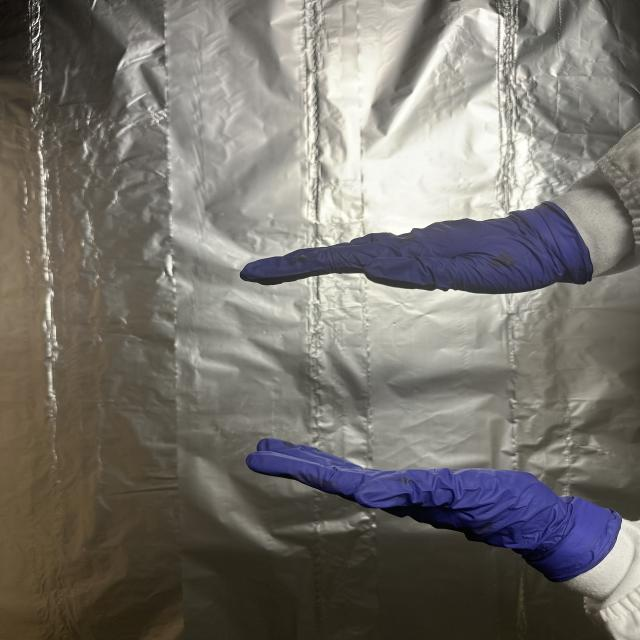gloves_contaminated: (246, 438, 622, 582), (241, 202, 592, 294)
